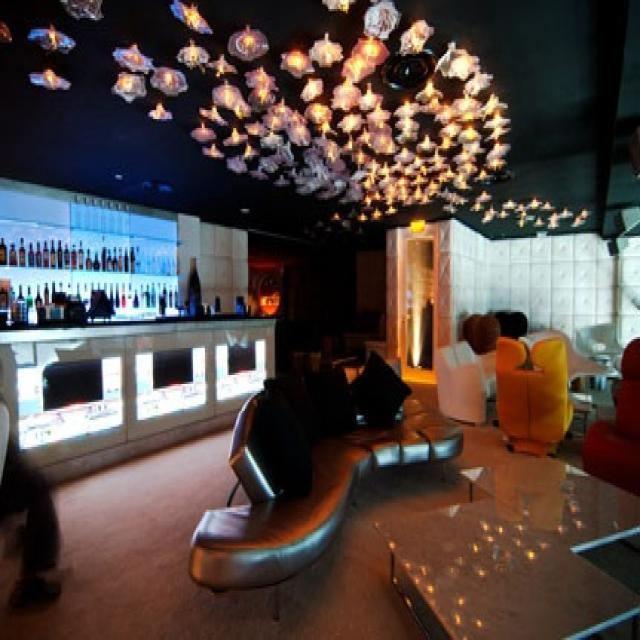chair: (494, 332, 574, 454)
sofa: (185, 359, 468, 600), (435, 337, 498, 424)
